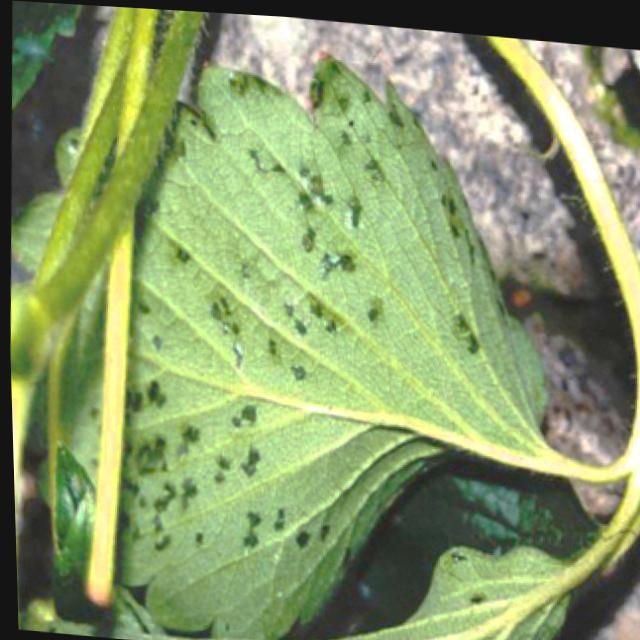Angular Leafspot: (8, 42, 576, 637), (102, 537, 581, 640)
